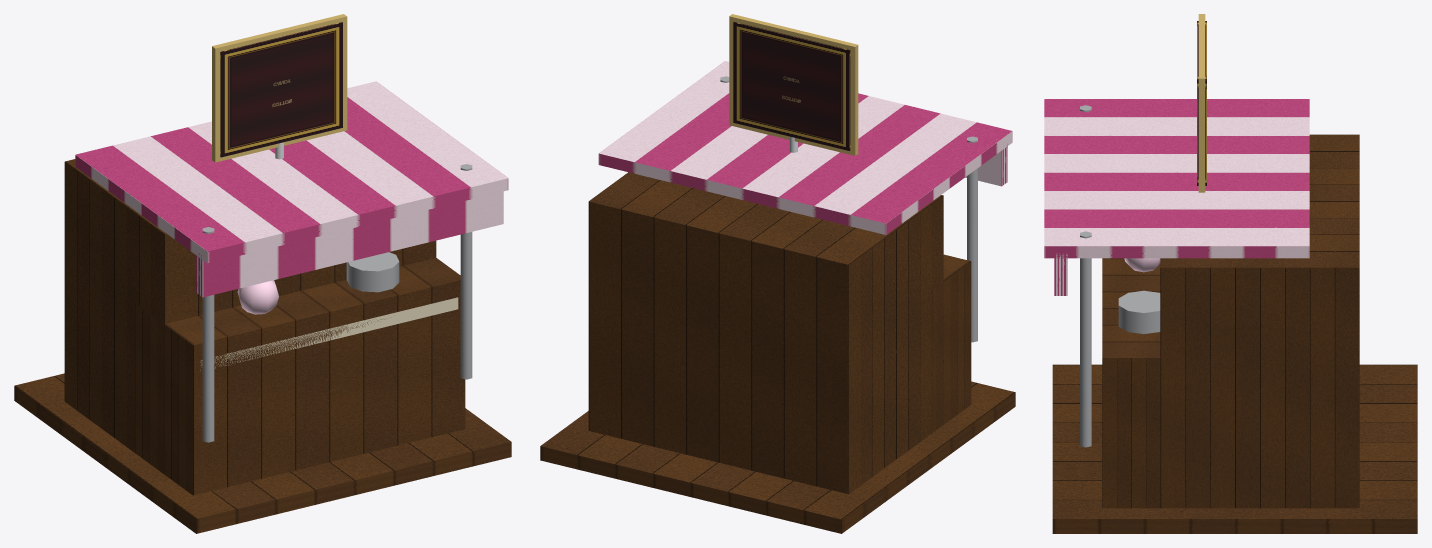
File: vendor_cotton.glb
The picture shows the model from 3 angles, left to right: view 1: azimuth 30°, elevation 25°; view 2: azimuth 150°, elevation 25°; view 3: azimuth 270°, elevation 25°; orthographic projection. The views are drawn at different scales.
Parts seen in each view (by area): view 1: base, sign, prop; view 2: base, sign; view 3: base, sign.
Part boxes in pixels (x1,y1,x2,y2): base: (14,81,511,533); sign: (212,14,347,162); prop: (237,280,278,314); base: (540,61,1015,533); sign: (729,14,858,155); base: (1044,99,1417,533); sign: (1197,14,1206,192).
Size of the model in its own units: 2.2 by 2.73 by 2.25.
8 materials, 3 textured.
